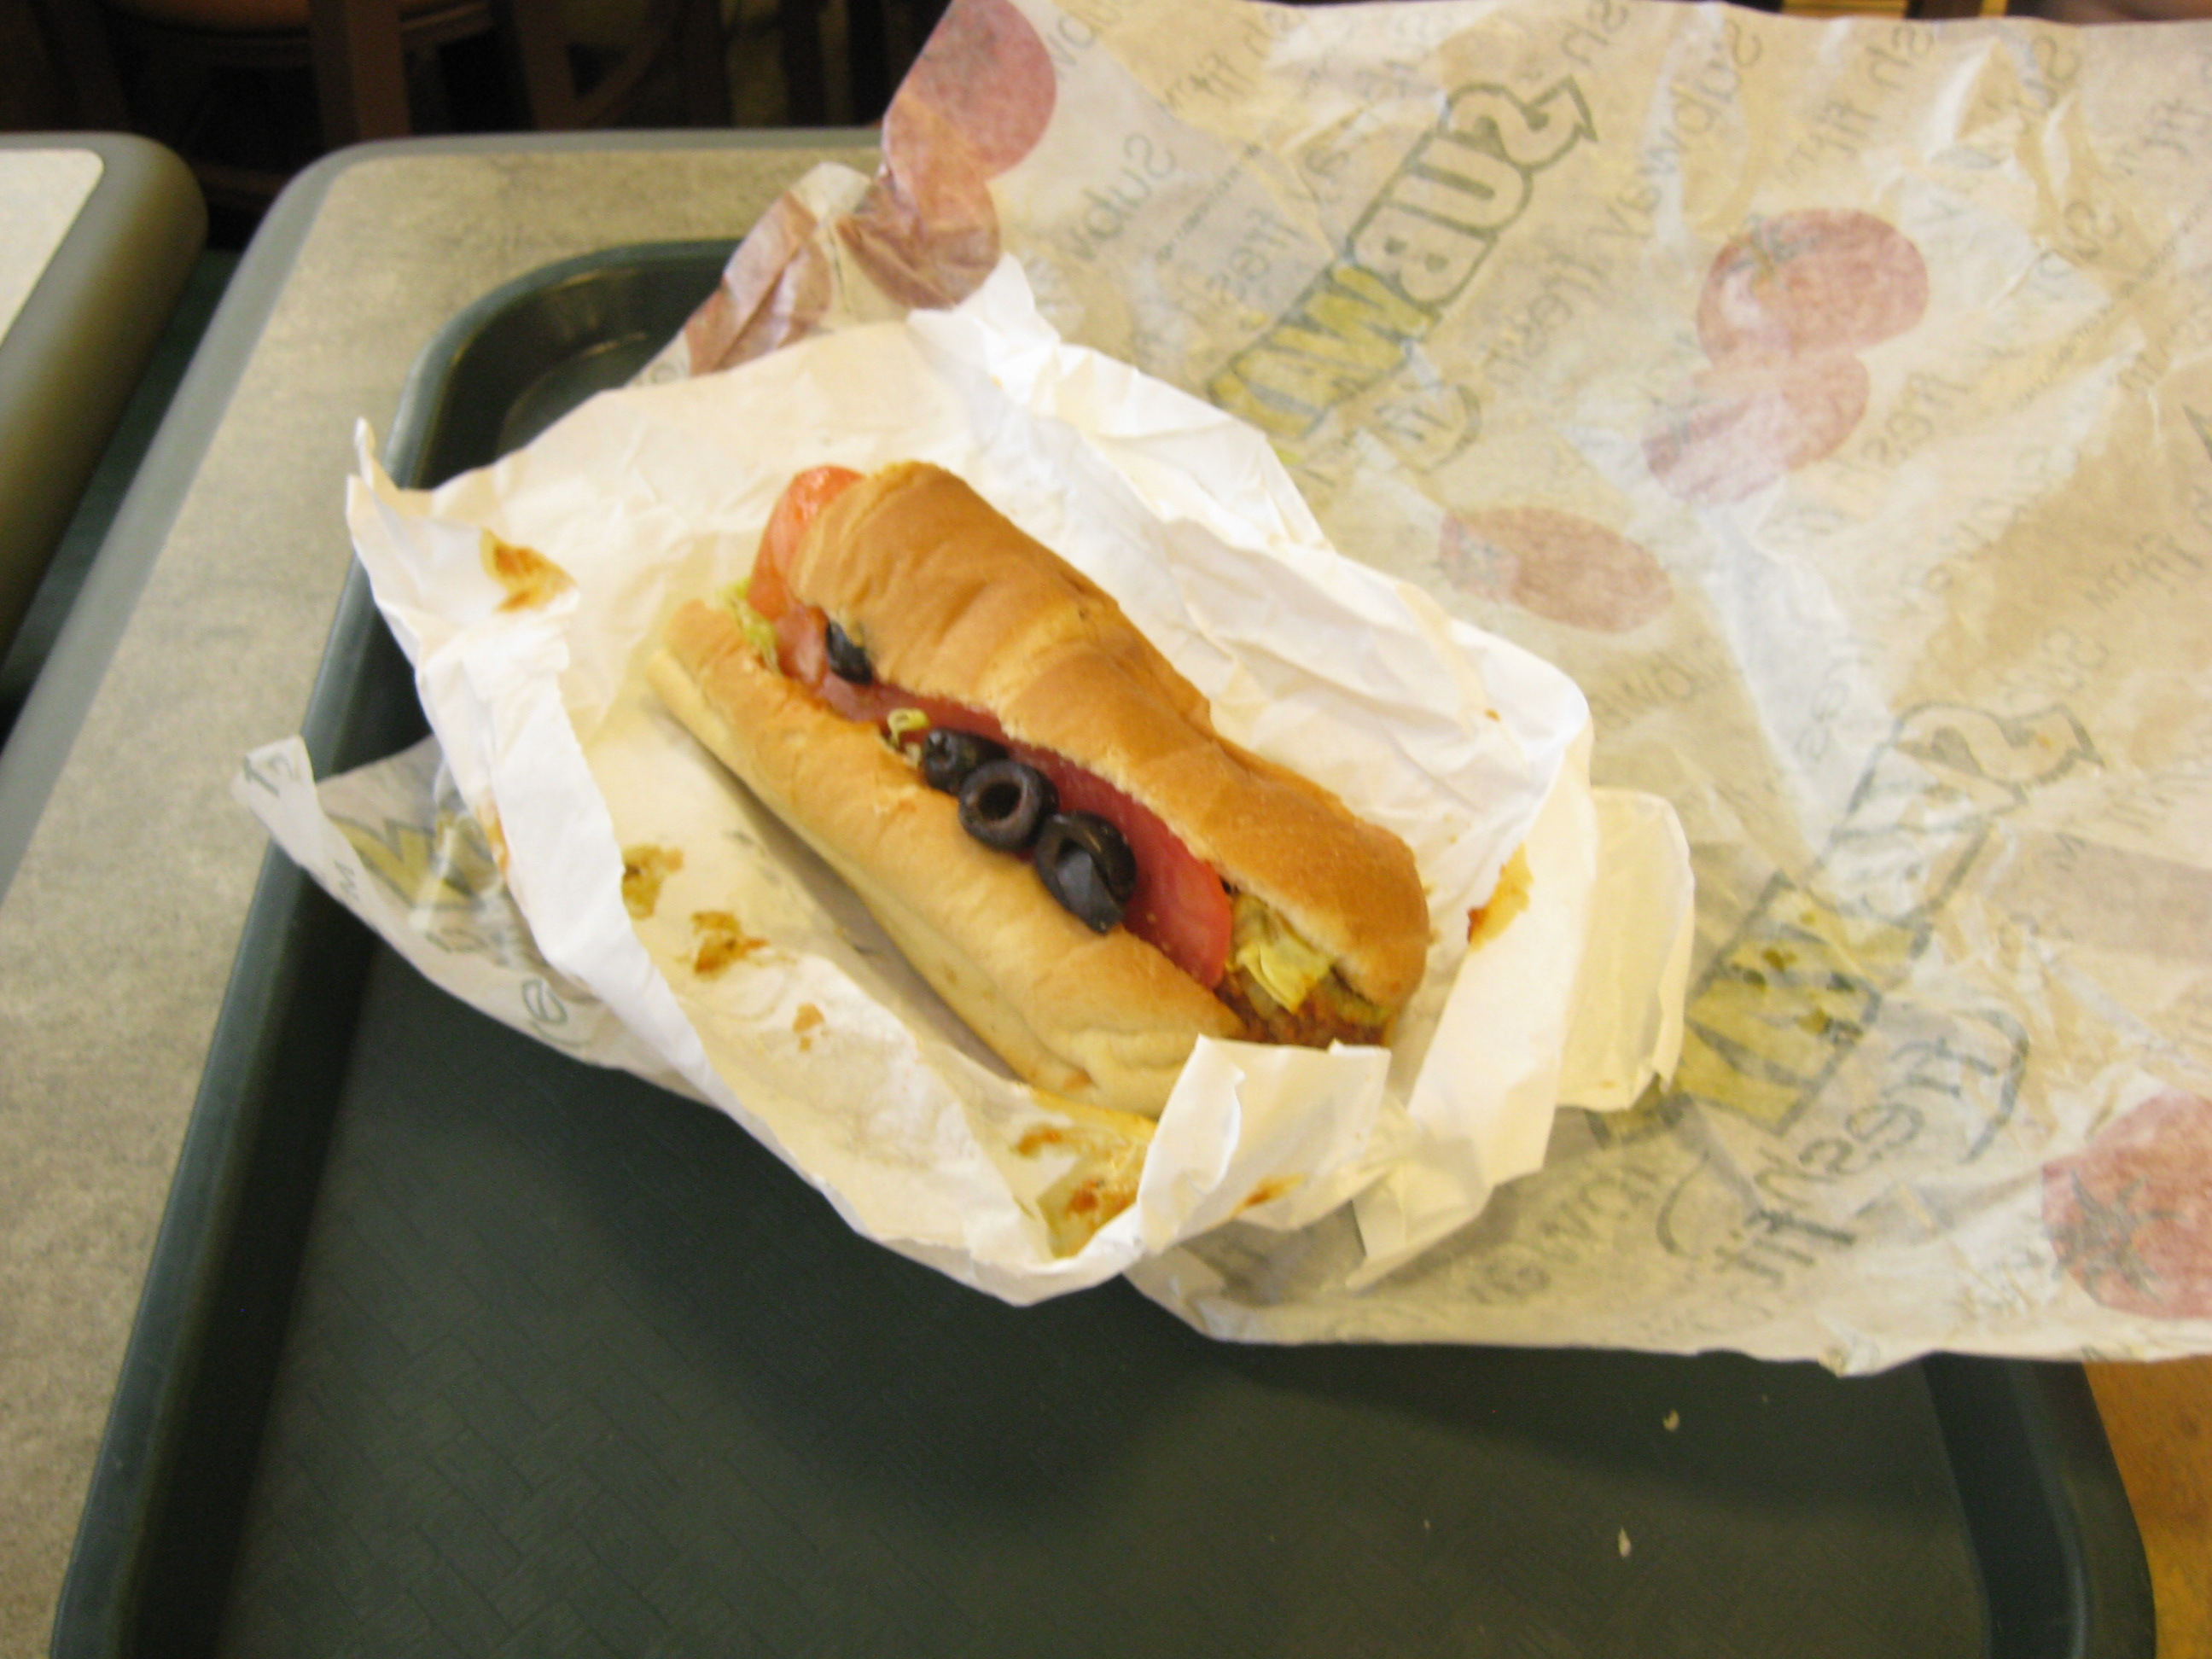sub: (636, 436, 1460, 1133)
